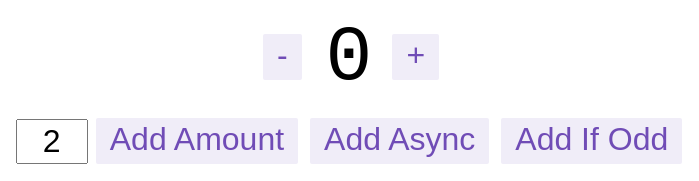
Scenario: Counter component / click increment button
Step 1. Click the button with test id "incrementButton" → (416, 57), box [392,34,439,80]
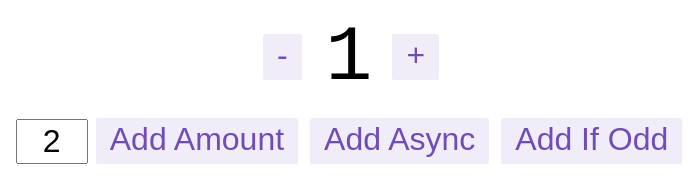
Result: the text with test id "counter" reads "1" at [326,14,372,102]
